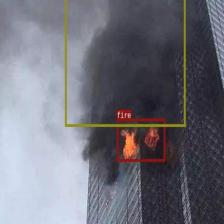fire: (116, 118, 165, 161)
smoke: (64, 0, 185, 126)
